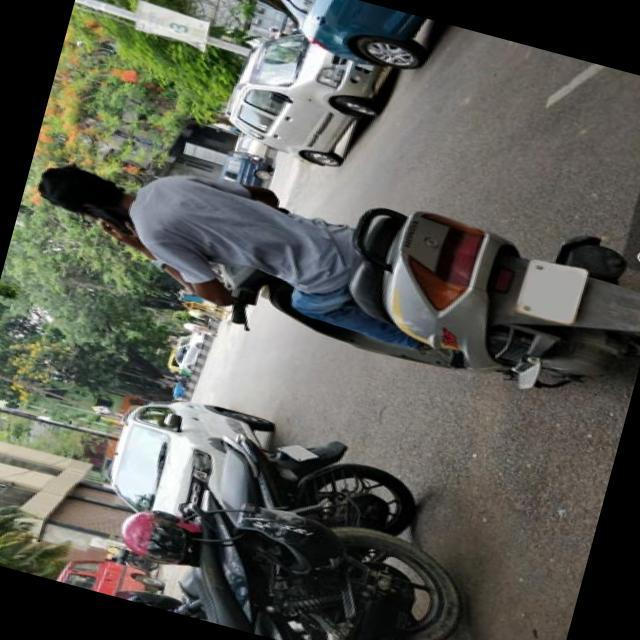USING_MOBILE: (69, 202, 245, 310)
